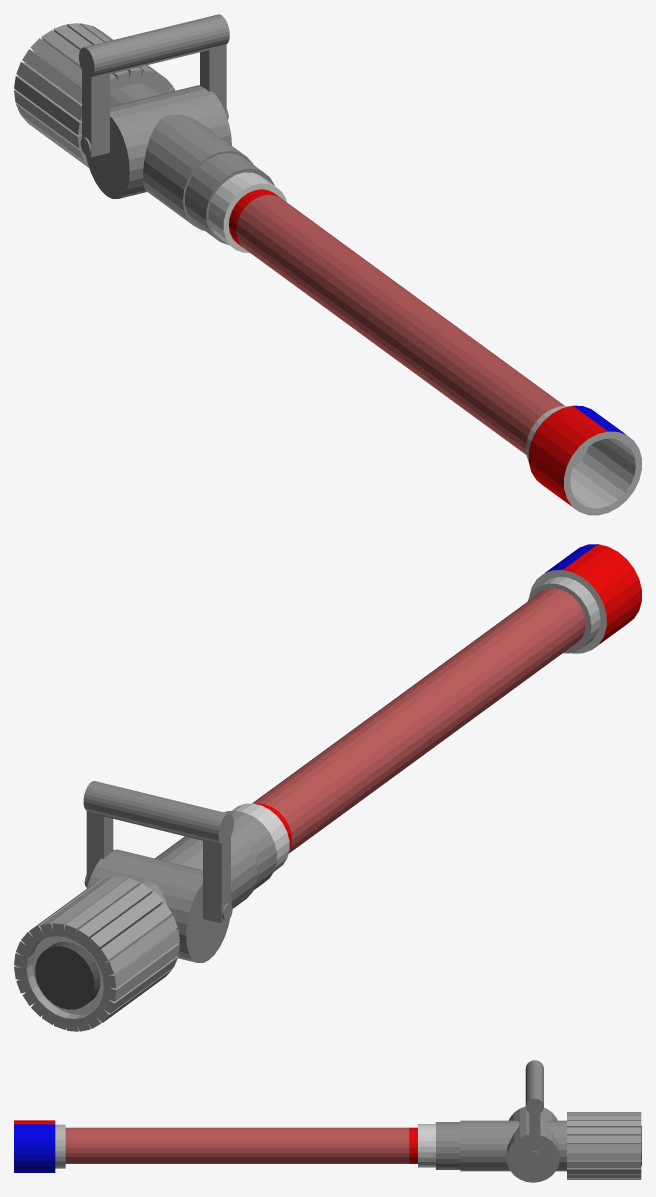
File: R6_nozle.dae
3 views of the same model, one above another, from view 1: azimuth 30°, elevation 25°; view 2: azimuth 150°, elevation 25°; view 3: azimuth 270°, elevation 25° (orthographic). The views are drawn at different scales.
Parts seen in each view (by area): view 1: attack_hos, Fog_Nozzle, coupler_no; view 2: Fog_Nozzle, attack_hos, coupler_no; view 3: attack_hos, Fog_Nozzle, coupler_no.
Boxes of the visible parts, <box> form: attack_hos: <box>236,194,641,515</box>; Fog_Nozzle: <box>14,14,274,244</box>; coupler_no: <box>208,172,286,252</box>; Fog_Nozzle: <box>14,781,276,1031</box>; attack_hos: <box>252,544,641,853</box>; coupler_no: <box>232,803,291,871</box>; attack_hos: <box>14,1120,409,1172</box>; Fog_Nozzle: <box>435,1060,641,1182</box>; coupler_no: <box>409,1124,435,1167</box>.
Size of the model in its own units: 0.0823 by 0.5517 by 0.0938.
